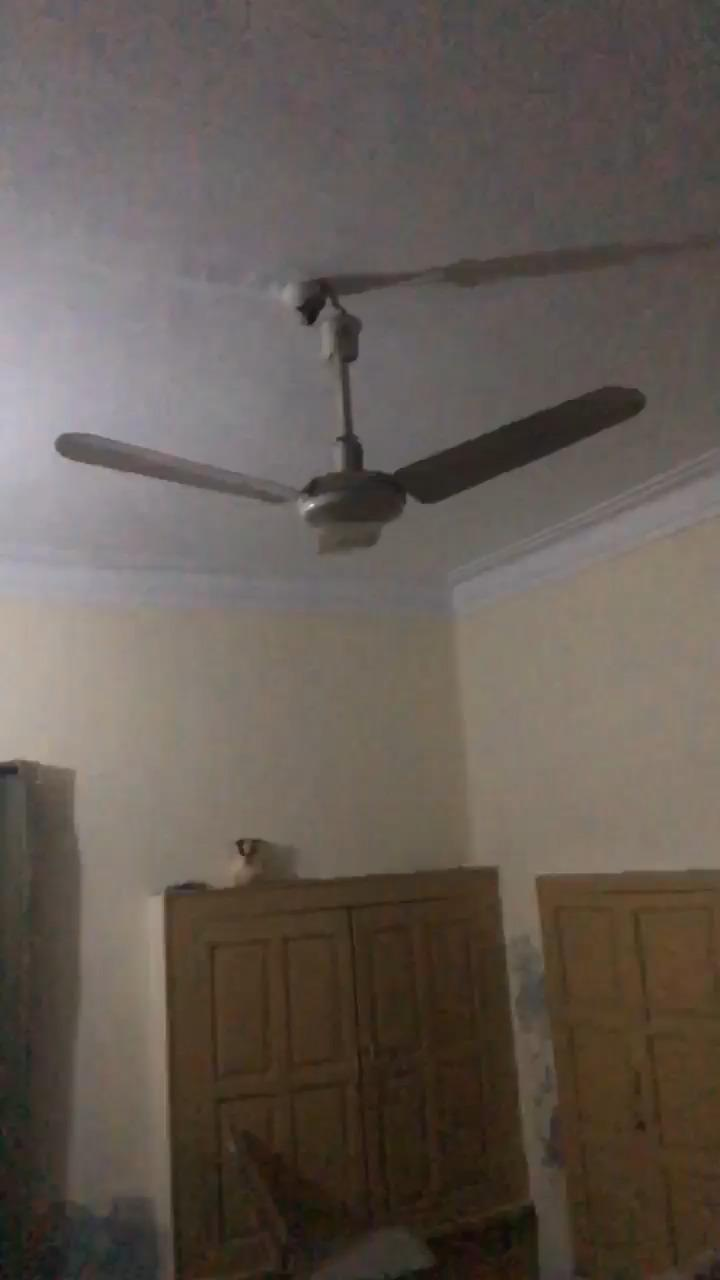fan: (54, 294, 647, 554)
